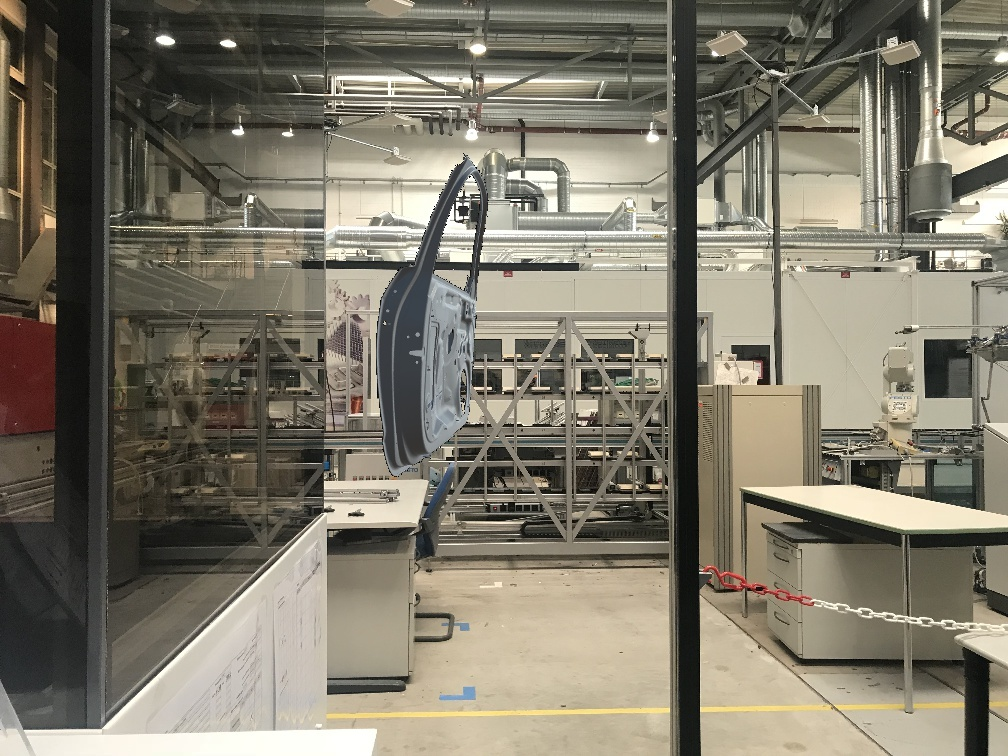car_door: (376, 153, 488, 476)
